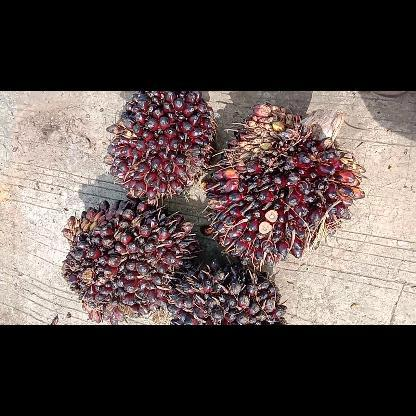TBS mentah: (204, 100, 368, 266), (58, 196, 202, 324), (101, 90, 220, 206), (167, 256, 286, 324)
